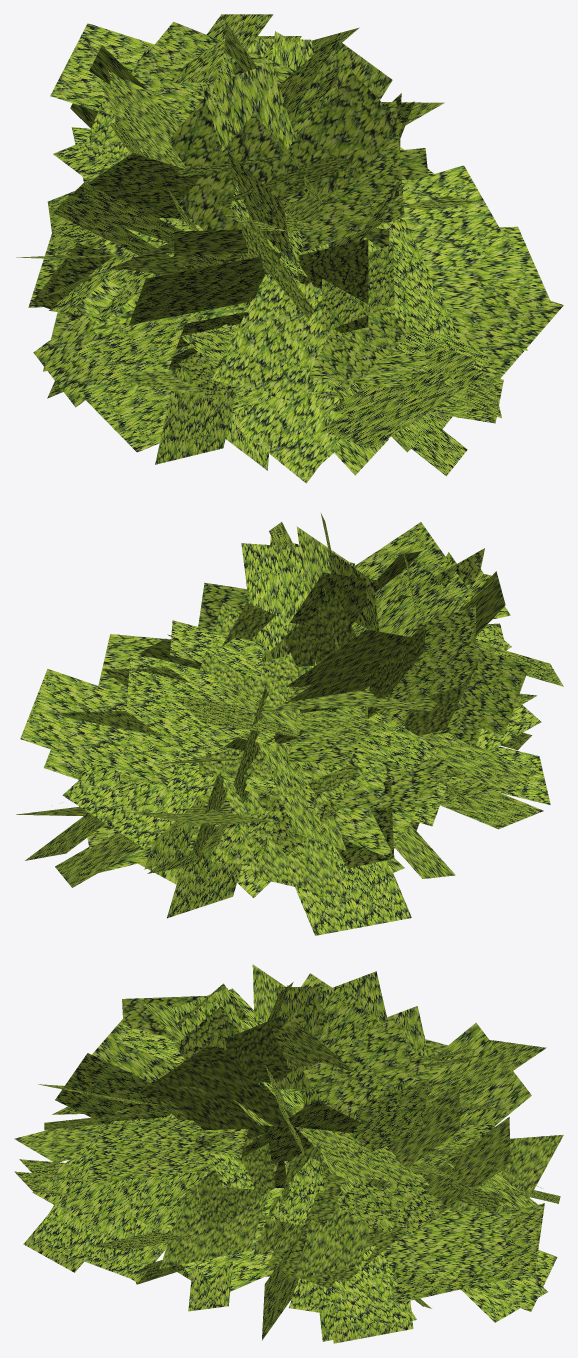
Rendered from treetop.obj.
The picture shows the model from 3 angles, top to bottom: view 1: azimuth 30°, elevation 25°; view 2: azimuth 150°, elevation 25°; view 3: azimuth 270°, elevation 25°; orthographic projection. The views are drawn at different scales.
Visible parts, largest first — view 1: tree4-top; view 2: tree4-top; view 3: tree4-top.
Boxes of the visible parts, left/top/right/bottom form: tree4-top: left=16, top=14, right=563, bottom=483; tree4-top: left=16, top=513, right=563, bottom=935; tree4-top: left=14, top=964, right=563, bottom=1343.
Bounding box in the file's own units: 9.9 × 7.83 × 12.91.
